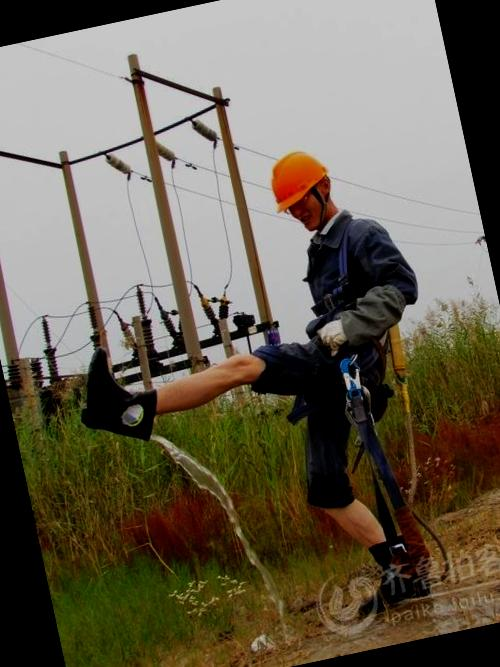helmet: (258, 142, 339, 225)
no_vest: (289, 212, 406, 340)
person: (39, 130, 468, 632)
